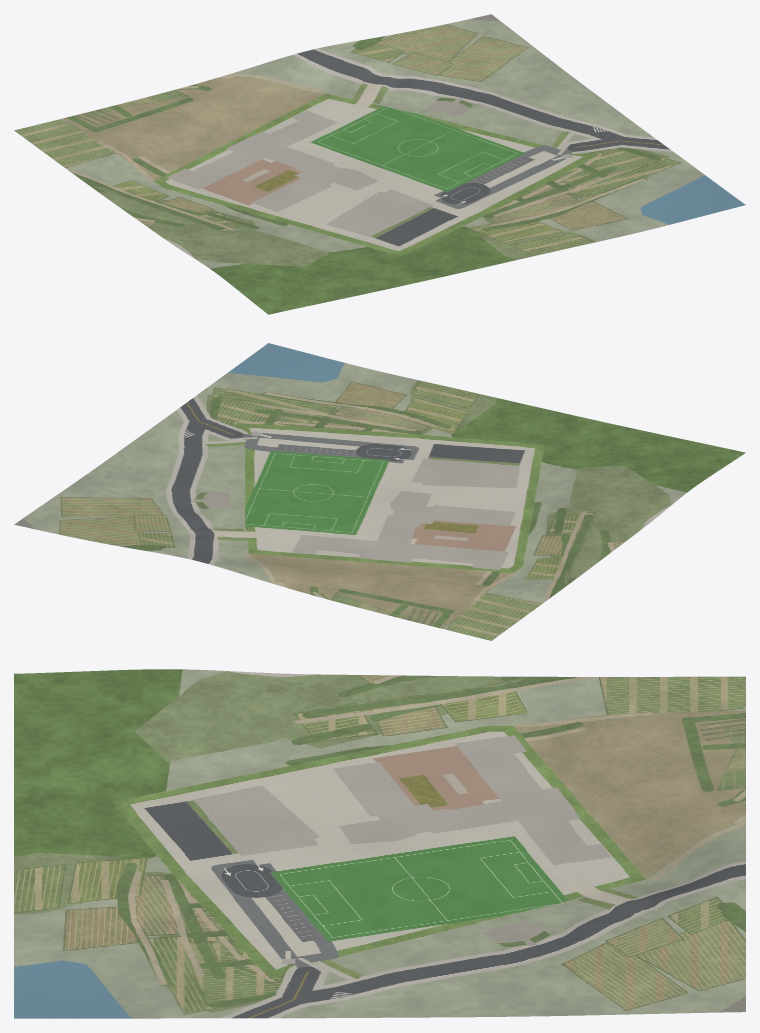
3 renders of one model, top to bottom at view 1: azimuth 30°, elevation 25°; view 2: azimuth 150°, elevation 25°; view 3: azimuth 270°, elevation 25°, orthographic. The views are drawn at different scales.
Visible parts, largest first — view 1: ground-school; view 2: ground-school; view 3: ground-school.
Boxes of the visible parts, x1,y1,x2,y2 form: ground-school: [14, 14, 745, 314]; ground-school: [14, 343, 745, 640]; ground-school: [14, 669, 745, 1018].
Size of what is drawn, in the model's own units: 208 by 6.04 by 192.
1 material, 1 textured.
